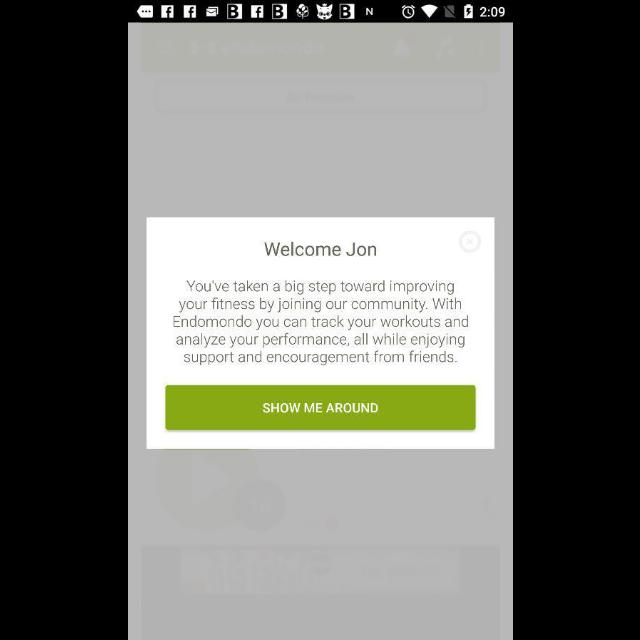icon: (458, 231, 480, 253)
panel: (146, 217, 494, 449)
text: (172, 280, 468, 366), (262, 242, 376, 258)
textbutton: (165, 385, 475, 431)
uppertaskbar: (128, 1, 512, 23)
